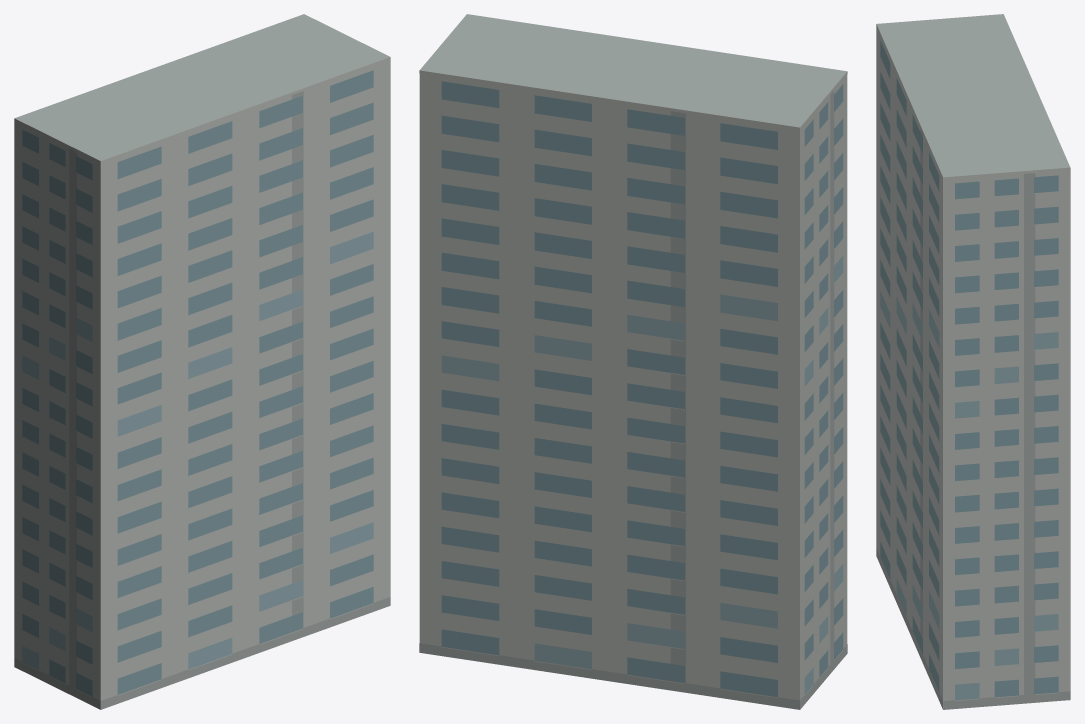
The model's file is residential-2be75444-d6f5-4167-ae97-bd467a1fcfeb.glb.
3 renders of one model, left to right at view 1: azimuth 30°, elevation 25°; view 2: azimuth 150°, elevation 25°; view 3: azimuth 270°, elevation 25°, orthographic. The views are drawn at different scales.
Visible parts, largest first — view 1: residential-2be75444-d6f5-4167-ae97-bd467a1fcfeb.tmp; view 2: residential-2be75444-d6f5-4167-ae97-bd467a1fcfeb.tmp; view 3: residential-2be75444-d6f5-4167-ae97-bd467a1fcfeb.tmp.
Boxes of the visible parts, <box> form: residential-2be75444-d6f5-4167-ae97-bd467a1fcfeb.tmp: <box>14,14,390,709</box>; residential-2be75444-d6f5-4167-ae97-bd467a1fcfeb.tmp: <box>419,14,847,709</box>; residential-2be75444-d6f5-4167-ae97-bd467a1fcfeb.tmp: <box>876,14,1070,709</box>.
Size of the model in its own units: 30.94 by 47 by 15.53.
